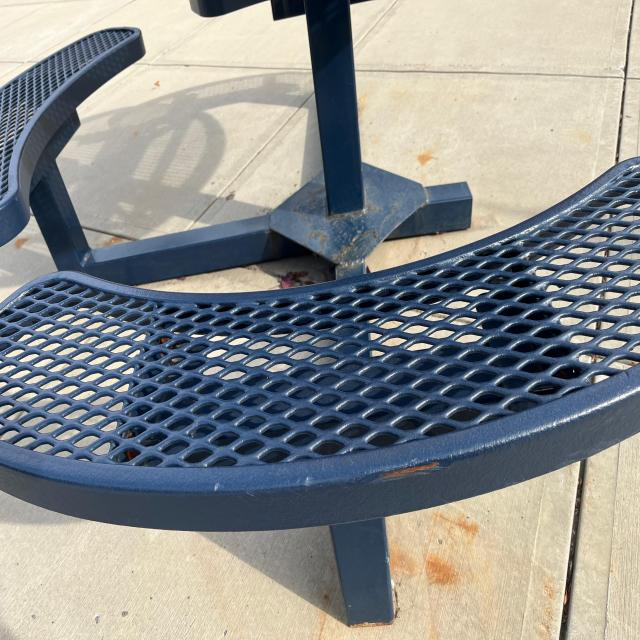Filiform Corrosion: (271, 165, 426, 280), (379, 442, 442, 481)
